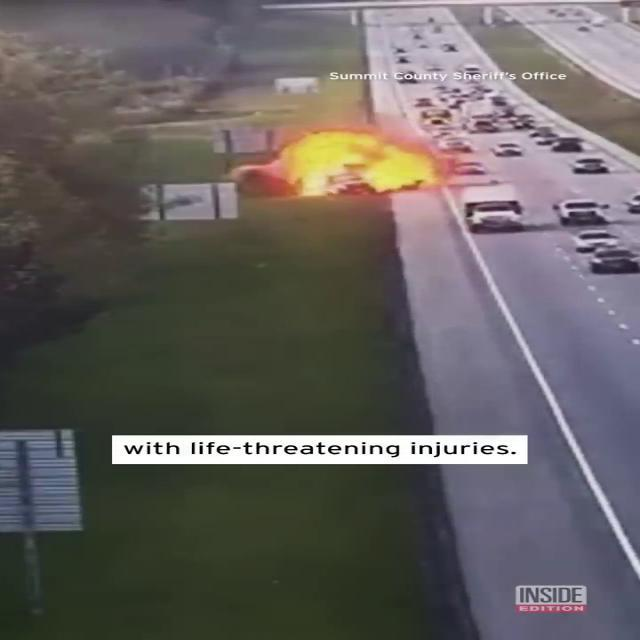Fire: (270, 130, 437, 196)
